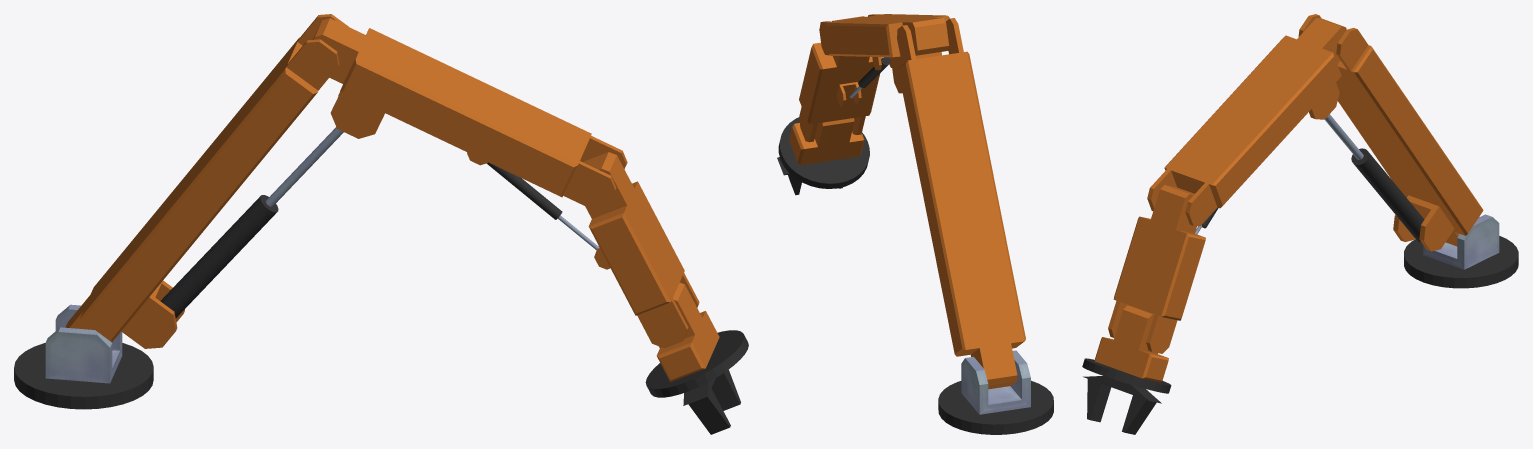
Rendered from brazo.glb.
The picture shows the model from 3 angles, left to right: view 1: azimuth 30°, elevation 25°; view 2: azimuth 150°, elevation 25°; view 3: azimuth 270°, elevation 25°; orthographic projection. The views are drawn at different scales.
Visible parts, largest first — view 1: Plane.002, Plane.001, Plane.003, Circle, Plane, Cylinder, Plane.004, Circle.001, Plane.007, Plane.006, Plane.008, Cylinder.001 (+1 smaller); view 2: Plane.001, Plane.003, Plane.002, Circle, Plane, Circle.001, Plane.004, Plane.010, Plane.008, Cylinder.002; view 3: Plane.002, Plane.001, Plane.003, Circle, Plane.004, Plane, Cylinder, Plane.007, Plane.006, Circle.001, Plane.005, Plane.008 (+1 smaller).
Part boxes in pixels (left/top/right/bottom): Plane.002: left=313, top=18, right=627, bottom=210; Plane.001: left=65, top=14, right=348, bottom=341; Plane.003: left=584, top=152, right=699, bottom=348; Circle: left=14, top=343, right=153, bottom=409; Plane: left=45, top=304, right=122, bottom=383; Cylinder: left=160, top=195, right=278, bottom=318; Plane.004: left=656, top=282, right=719, bottom=381; Circle.001: left=645, top=330, right=748, bottom=397; Plane.007: left=121, top=280, right=184, bottom=348; Plane.006: left=688, top=369, right=740, bottom=434; Plane.008: left=330, top=92, right=384, bottom=138; Cylinder.001: left=265, top=127, right=343, bottom=206; Plane.001: left=897, top=18, right=1025, bottom=389; Plane.003: left=799, top=16, right=882, bottom=142; Plane.002: left=819, top=14, right=949, bottom=57; Circle: left=938, top=380, right=1053, bottom=434; Plane: left=961, top=350, right=1030, bottom=414; Circle.001: left=778, top=117, right=869, bottom=188; Plane.004: left=789, top=118, right=864, bottom=165; Plane.010: left=836, top=82, right=861, bottom=106; Plane.008: left=890, top=52, right=941, bottom=93; Cylinder.002: left=858, top=57, right=890, bottom=88; Plane.002: left=1147, top=18, right=1346, bottom=226; Plane.001: left=1298, top=14, right=1483, bottom=246; Plane.003: left=1108, top=185, right=1205, bottom=353; Circle: left=1404, top=236, right=1518, bottom=288; Plane.004: left=1095, top=305, right=1168, bottom=382; Plane: left=1423, top=214, right=1499, bottom=269; Cylinder: left=1351, top=148, right=1424, bottom=242; Plane.007: left=1393, top=195, right=1454, bottom=251; Plane.006: left=1087, top=379, right=1156, bottom=434; Circle.001: left=1082, top=358, right=1171, bottom=393; Plane.005: left=1083, top=376, right=1161, bottom=403; Plane.008: left=1309, top=83, right=1339, bottom=119.
Bounding box in the file's own units: 8.55 × 5.89 × 7.58.
1 material, 1 textured.
